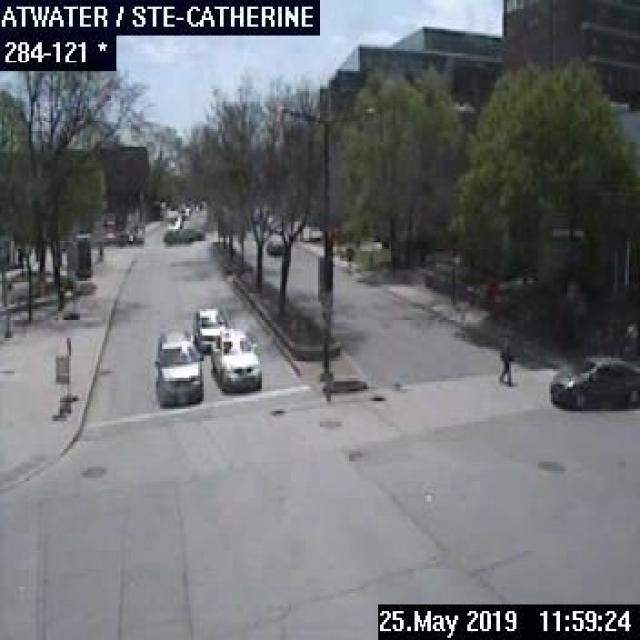pedestrian: (494, 331, 514, 387), (344, 242, 355, 272)
vehicle: (546, 349, 638, 407), (153, 330, 202, 404), (209, 327, 260, 389), (191, 306, 230, 350), (265, 233, 282, 256)
